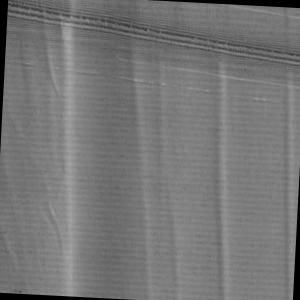Wrinkle: (1, 1, 97, 297), (105, 34, 201, 300), (256, 7, 300, 300), (196, 53, 245, 300)
